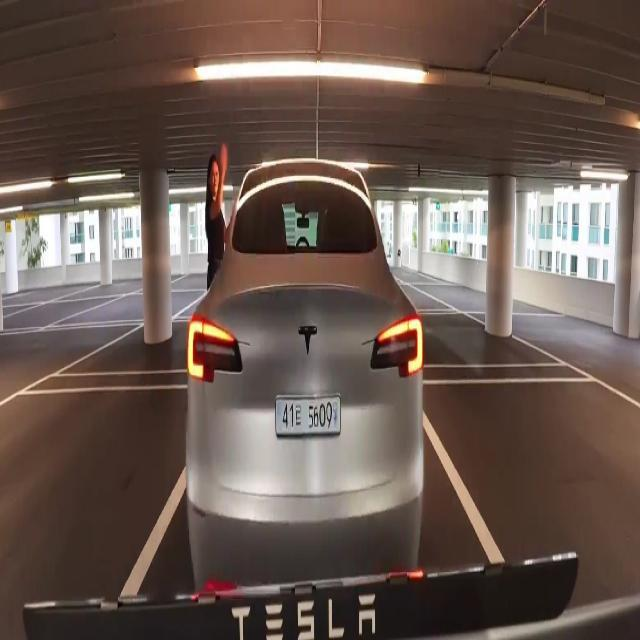car: (275, 393, 341, 440)
